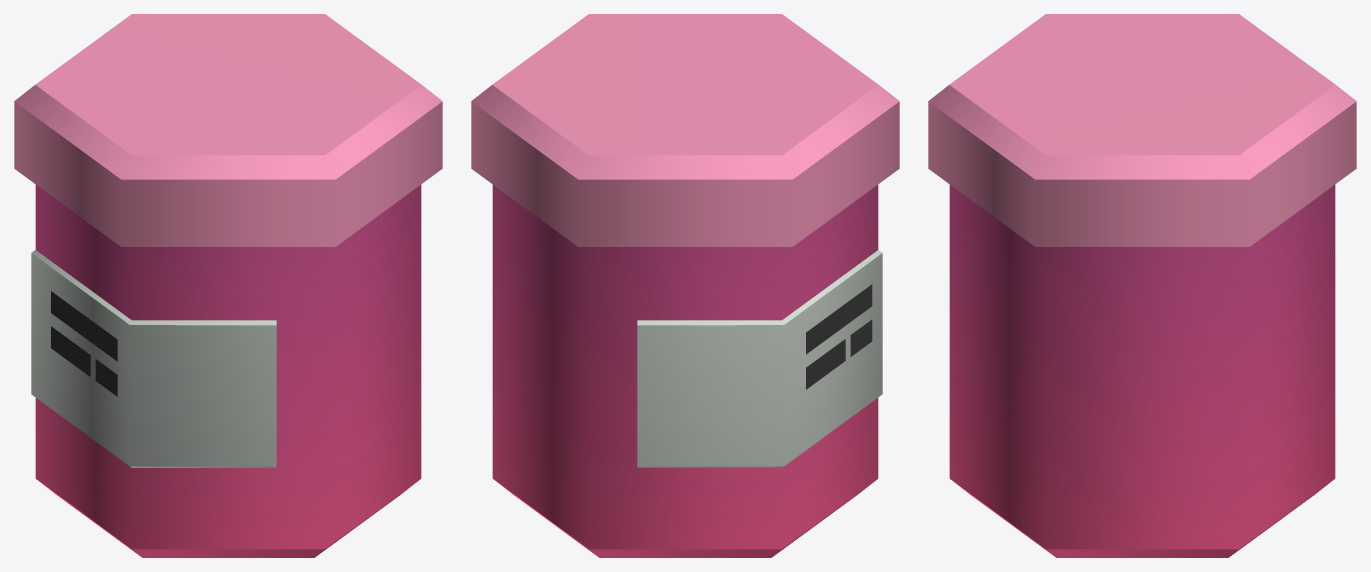
The model's file is Jar_1_J.glb.
The picture shows the model from 3 angles, left to right: view 1: azimuth 30°, elevation 25°; view 2: azimuth 150°, elevation 25°; view 3: azimuth 270°, elevation 25°; orthographic projection.
Parts seen in each view (by area): view 1: Jar_1_J; view 2: Jar_1_J; view 3: Jar_1_J.
Boxes of the visible parts, box(x1,y1,x2,y2) form: Jar_1_J: box(14, 14, 442, 557); Jar_1_J: box(471, 14, 899, 557); Jar_1_J: box(928, 14, 1356, 557).
Size of the model in its own units: 0.1799 by 0.2194 by 0.2077.
Materials: 1 (1 with a texture image).
